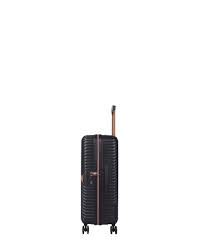suitcase: (77, 105, 122, 237)
